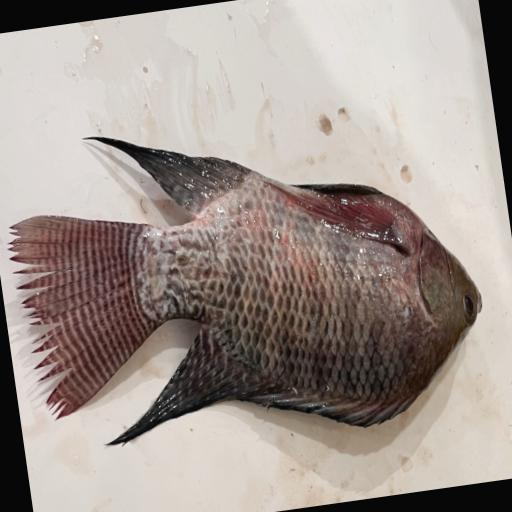Tilapia: (0, 86, 497, 474)
